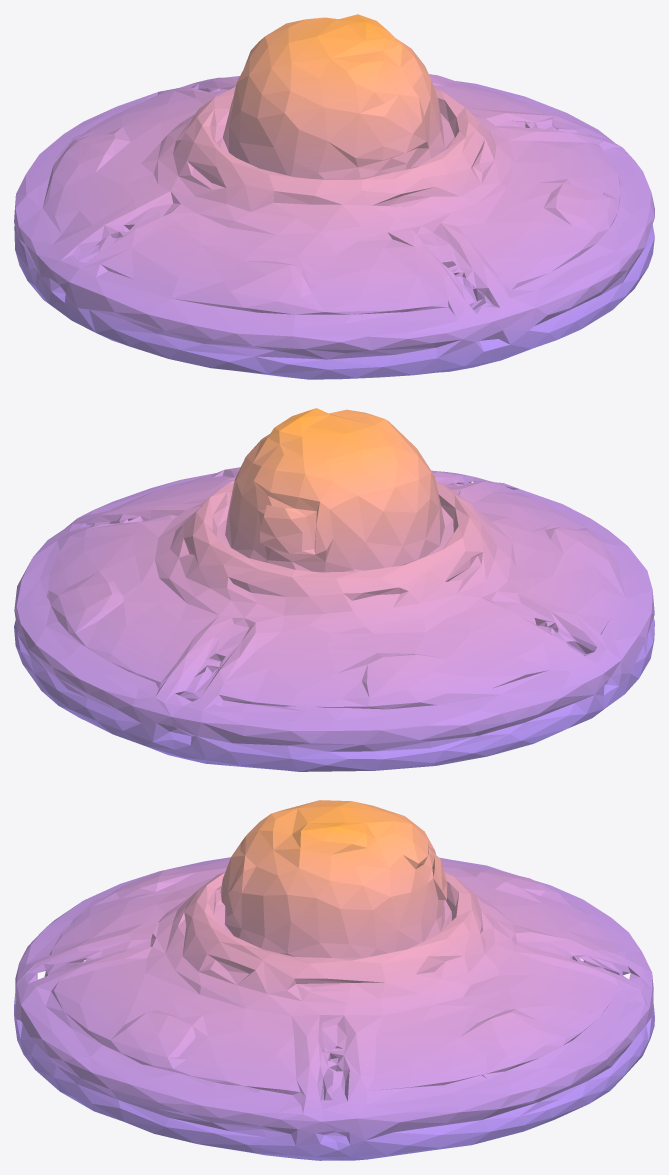
The model's file is 15_cyb_laser_gradient_fish_scales_2989_2026_10_03_14ebcf.glb.
3 renders of one model, top to bottom at view 1: azimuth 30°, elevation 25°; view 2: azimuth 150°, elevation 25°; view 3: azimuth 270°, elevation 25°, orthographic.
Visible parts, largest first — view 1: geometry_0; view 2: geometry_0; view 3: geometry_0.
Part boxes in pixels (x1,y1,x2,y2): geometry_0: (14,14,654,379); geometry_0: (14,408,654,771); geometry_0: (14,800,654,1160).
Size of the model in its own units: 1 by 0.4721 by 1.
